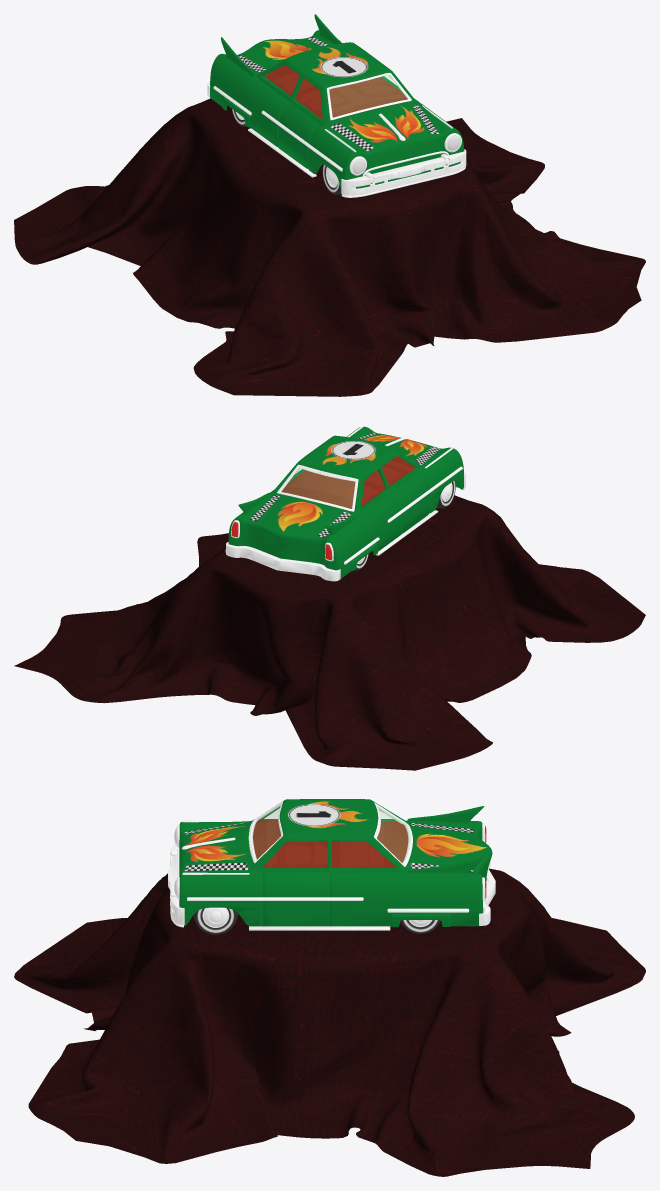
The model's file is toycar.glb.
The picture shows the model from 3 angles, top to bottom: view 1: azimuth 30°, elevation 25°; view 2: azimuth 150°, elevation 25°; view 3: azimuth 270°, elevation 25°; orthographic projection. The views are drawn at different scales.
Visible parts, largest first — view 1: Fabric, ToyCar, Glass; view 2: Fabric, ToyCar, Glass; view 3: Fabric, ToyCar, Glass.
Boxes of the visible parts, x1,y1,x2,y2 form: Fabric: [14, 98, 645, 396]; ToyCar: [207, 14, 466, 197]; Glass: [329, 75, 407, 116]; Fabric: [14, 495, 645, 770]; ToyCar: [225, 425, 465, 581]; Glass: [282, 468, 354, 508]; Fabric: [14, 868, 645, 1176]; ToyCar: [168, 799, 495, 934]; Glass: [252, 806, 409, 862].
Size of the model in its own units: 0.0734 by 0.0288 by 0.074.
Materials: 3 (2 with a texture image).
